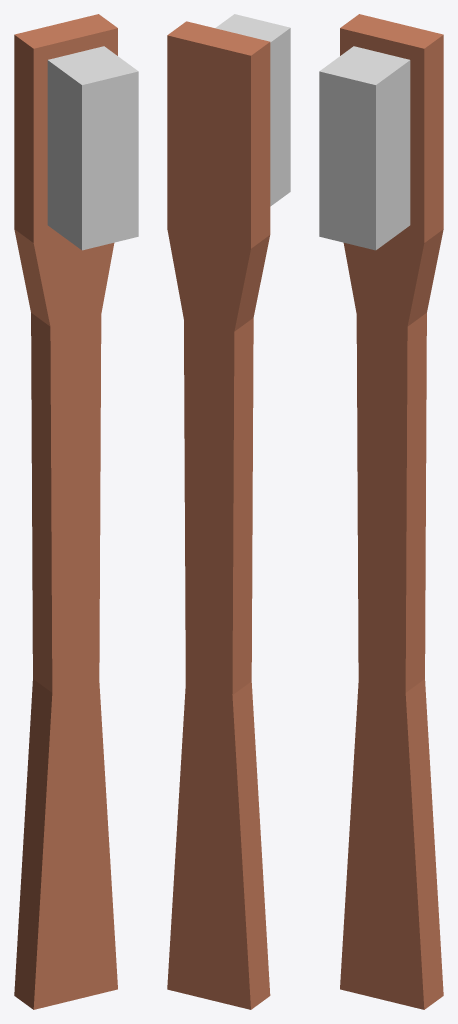
The model's file is Toothbrush_01.fbx.
3 renders of one model, left to right at view 1: azimuth 30°, elevation 25°; view 2: azimuth 150°, elevation 25°; view 3: azimuth 330°, elevation 25°, orthographic.
Visible parts, largest first — view 1: Toothbrush_01; view 2: Toothbrush_01; view 3: Toothbrush_01.
Boxes of the visible parts, x1,y1,x2,y2 form: Toothbrush_01: (14,14,138,1009); Toothbrush_01: (167,14,290,1009); Toothbrush_01: (319,14,443,1009).
Bounding box in the file's own units: 1.81 × 19.69 × 2.
